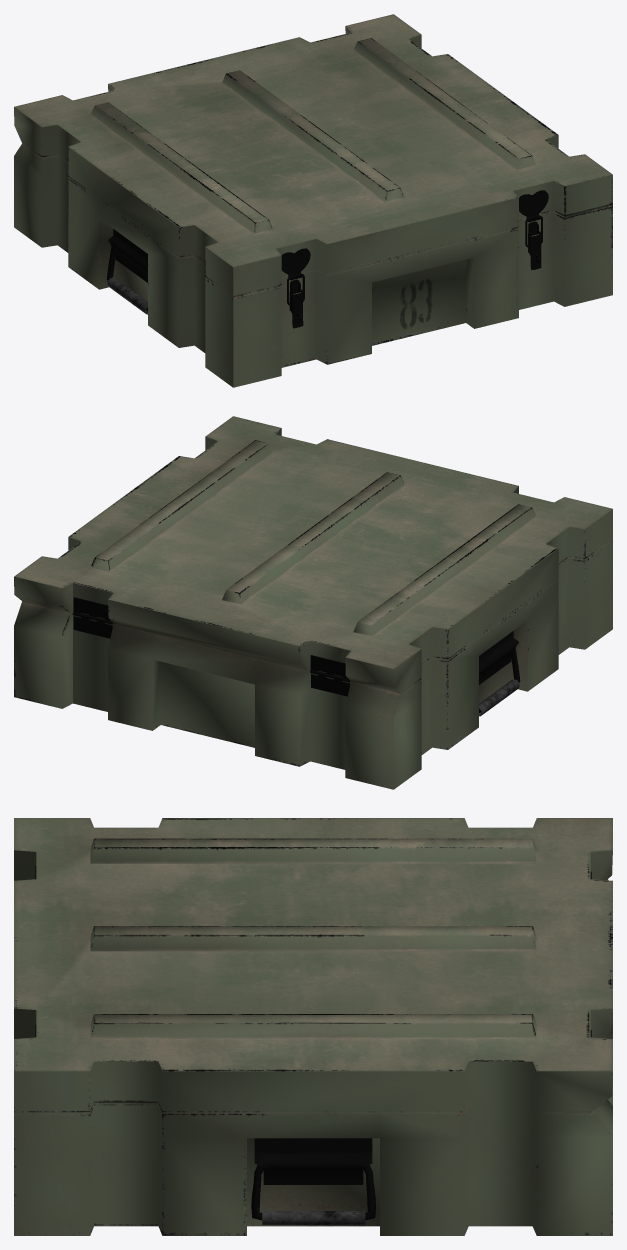
File: ArmyBoxComplete.fbx
3 renders of one model, top to bottom at view 1: azimuth 30°, elevation 25°; view 2: azimuth 150°, elevation 25°; view 3: azimuth 270°, elevation 25°, orthographic. The views are drawn at different scales.
Visible parts, largest first — view 1: fullbody; view 2: fullbody; view 3: fullbody.
Part boxes in pixels (x1,y1,x2,y2): fullbody: [14, 14, 612, 387]; fullbody: [14, 416, 612, 789]; fullbody: [14, 818, 612, 1235].
Bounding box in the file's own units: 4.06 × 1.34 × 4.06.
1 material, 1 textured.
